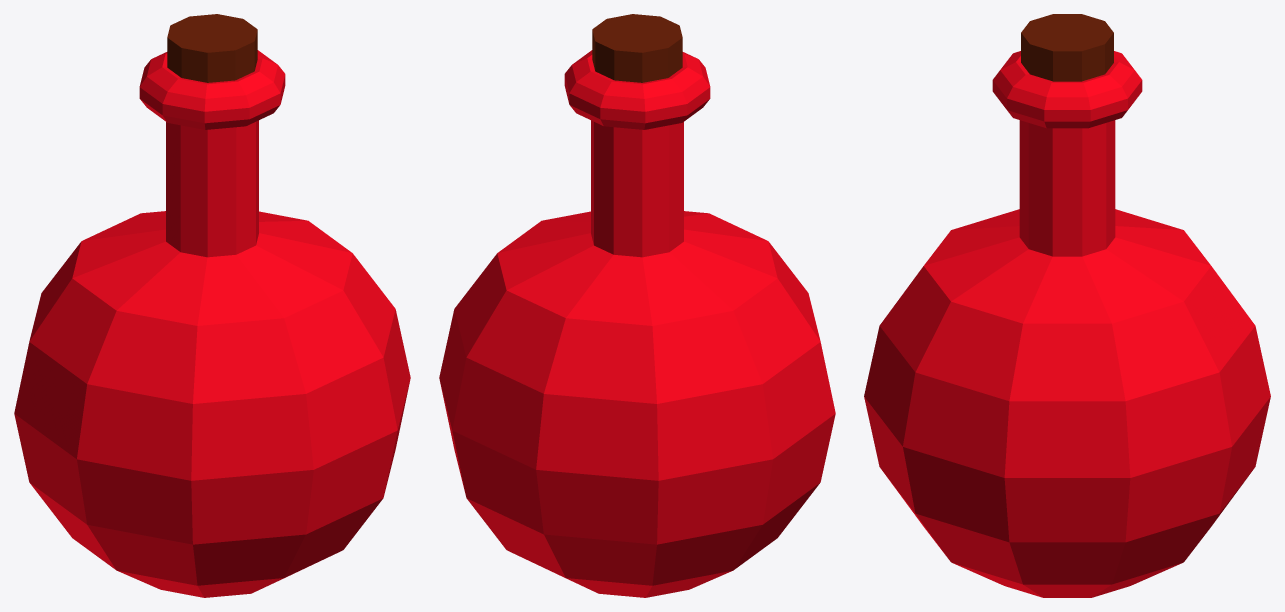
The model's file is Pocao2.fbx.
3 views of the same model, side by side, from view 1: azimuth 30°, elevation 25°; view 2: azimuth 150°, elevation 25°; view 3: azimuth 270°, elevation 25° (orthographic).
Visible parts, largest first — view 1: Pocao2; view 2: Pocao2; view 3: Pocao2.
Part boxes in pixels (bbox=[...]): Pocao2: bbox=[14, 14, 410, 597]; Pocao2: bbox=[439, 14, 835, 597]; Pocao2: bbox=[864, 14, 1270, 597].
Size of the model in its own units: 15.26 by 23.84 by 16.04.
